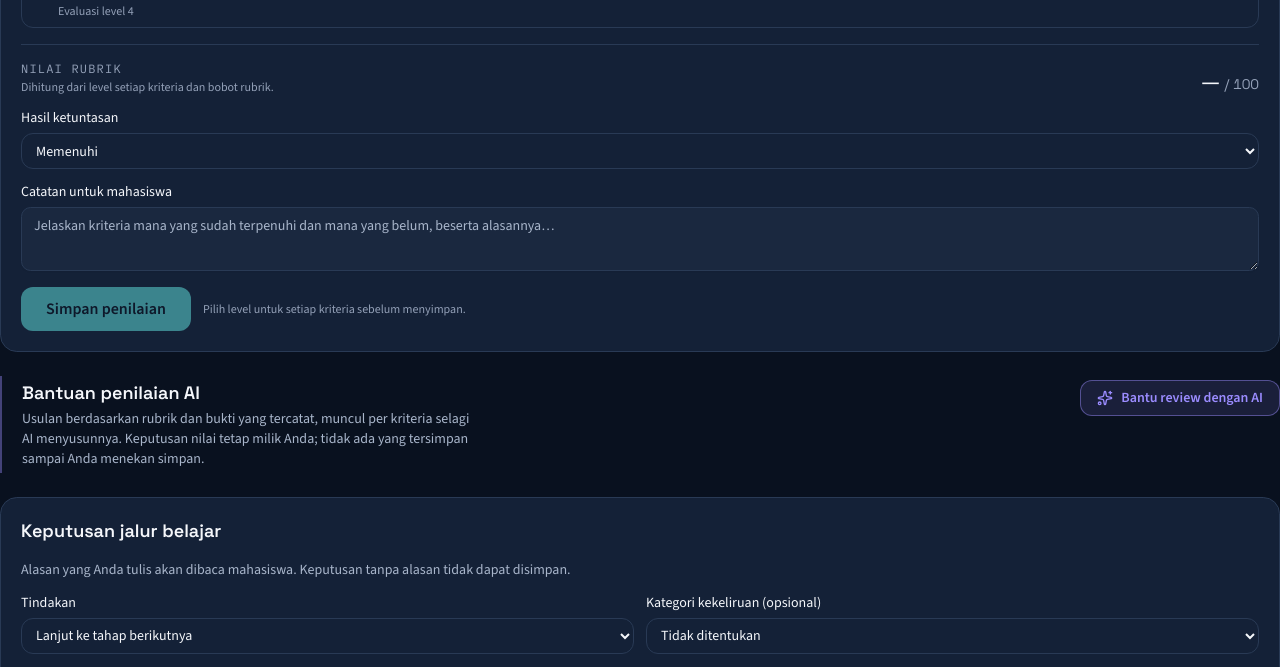
it: saran AI yang mengalir › menghapus usulan yang sudah tampil bila hasil akhirnya ditolak
(page scrolled)
What coordinates should you click on to do the following:
click the button "Bantu review dengan AI"
I would click on:
 (1180, 398)
Its box is x1=1080 y1=380 x2=1279 y2=416.
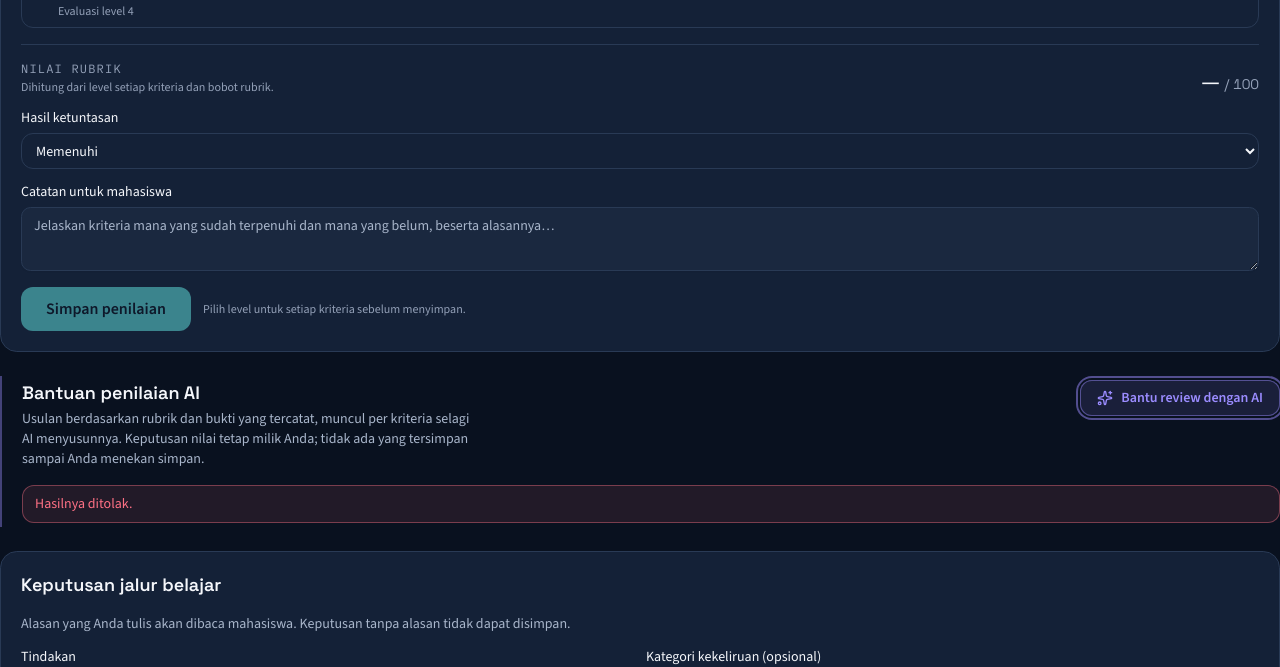
Expected: the message reads "Hasilnya ditolak.", x1=35 y1=494 x2=132 y2=513
